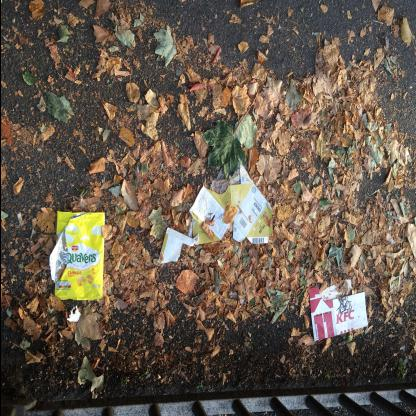karton: (156, 159, 272, 265), (308, 280, 367, 341)
plastik: (49, 210, 104, 302)
